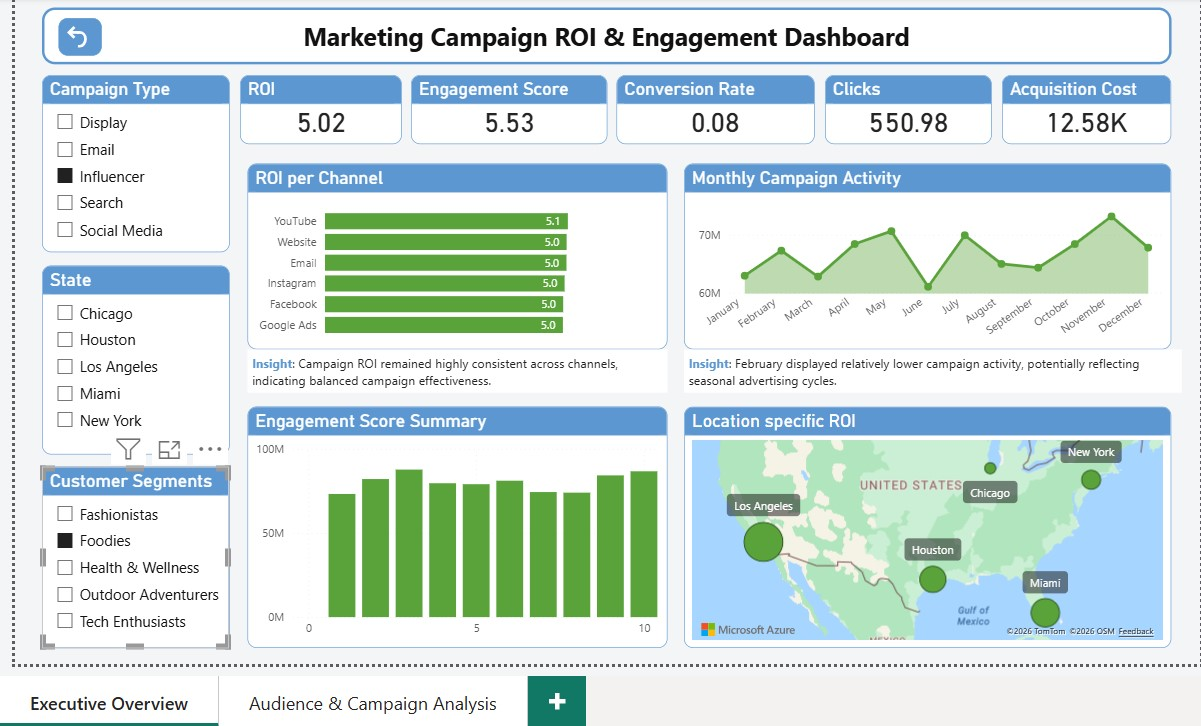

What the dashboard file says about the page in this screenshot:
{"tool":"powerbi","page":{"name":"Executive Overview","canvas":[1280,720],"ordinal":0},"visuals":[{"type":"kpi","title":"ROI","fields":{"TrendLine":["marketing_campaign.Campaign_Type"],"Indicator":["marketing_campaign.Avg_ROI"]},"box":[242.9,84.2,174.9,74.5],"z":0},{"type":"kpi","title":"Conversion Rate","fields":{"TrendLine":["marketing_campaign.Target_Audience"],"Indicator":["marketing_campaign.Avg_Conversion"]},"box":[649.3,84.2,213.7,74.5],"z":1000},{"type":"kpi","title":"Engagement Score","fields":{"TrendLine":["marketing_campaign.Campaign_Type"],"Indicator":["marketing_campaign.Avg_EngagementS"]},"box":[427.5,84.2,212.1,74.5],"z":2000},{"type":"kpi","title":"Acquisition Cost","fields":{"TrendLine":["marketing_campaign.Channel_Used"],"Indicator":["marketing_campaign.Avg_CAC"]},"box":[1065.5,84.2,183,74.5],"z":3000},{"type":"kpi","title":"Clicks","fields":{"TrendLine":["marketing_campaign.Channel_Used"],"Indicator":["marketing_campaign.AVG_Clicks"]},"box":[874.4,84.2,179.7,74.5],"z":4000},{"type":"columnChart","title":"Engagement Score Summary","fields":{"Category":["marketing_campaign.Engagement_Score"],"Y":["marketing_campaign.Total_Campaign"]},"box":[251,442,453.4,260.7],"z":5000},{"type":"clusteredBarChart","title":"ROI per Channel","fields":{"Category":["marketing_campaign.Channel_Used"],"Y":["marketing_campaign.Avg_ROI"]},"box":[251,179.7,453.4,200.8],"z":6000},{"type":"lineChart","title":"Monthly Campaign Activity","fields":{"Category":["marketing_campaign.Date.Variation.Date Hierarchy.Month"],"Y":["marketing_campaign.Total_Campaign"]},"box":[722.2,179.7,526.2,200.8],"z":7000},{"type":"slicer","title":"Campaign Type","fields":{"Values":["marketing_campaign.Campaign_Type"]},"box":[29.1,84.2,202.4,191.1],"z":8000},{"type":"slicer","title":"State","fields":{"Values":["marketing_campaign.Location"]},"box":[29.1,289.8,202.4,204],"z":9000},{"type":"slicer","title":"Customer Segments","fields":{"Values":["marketing_campaign.Customer_Segment"]},"box":[29.1,506.8,202.4,195.9],"z":10000},{"type":"azureMap","title":"Location specific ROI","fields":{"Category":["marketing_campaign.Location"],"Size":["marketing_campaign.Avg_ROI"]},"box":[722.2,442,526.2,260.7],"z":11000},{"type":"textbox","box":[29.1,11.3,1219.3,61.5],"z":12000},{"type":"textbox","box":[251,380.5,453.4,47],"z":13000},{"type":"textbox","box":[722.2,380.5,537.6,47],"z":14000}]}

Visuals, with their boxes on the page's 1280x720 design canvas (x1, y1, x2, y2). These are canvas units, not pixel positions in the 1201x726 screenshot, which may show the page scaled, cropped or inside an application window:
"ROI" kpi: [243, 84, 418, 159]
"Conversion Rate" kpi: [649, 84, 863, 159]
"Engagement Score" kpi: [428, 84, 640, 159]
"Acquisition Cost" kpi: [1066, 84, 1248, 159]
"Clicks" kpi: [874, 84, 1054, 159]
"Engagement Score Summary" columnChart: [251, 442, 704, 703]
"ROI per Channel" clusteredBarChart: [251, 180, 704, 380]
"Monthly Campaign Activity" lineChart: [722, 180, 1248, 380]
"Campaign Type" slicer: [29, 84, 232, 275]
"State" slicer: [29, 290, 232, 494]
"Customer Segments" slicer: [29, 507, 232, 703]
"Location specific ROI" azureMap: [722, 442, 1248, 703]
textbox: [29, 11, 1248, 73]
textbox: [251, 380, 704, 428]
textbox: [722, 380, 1260, 428]
